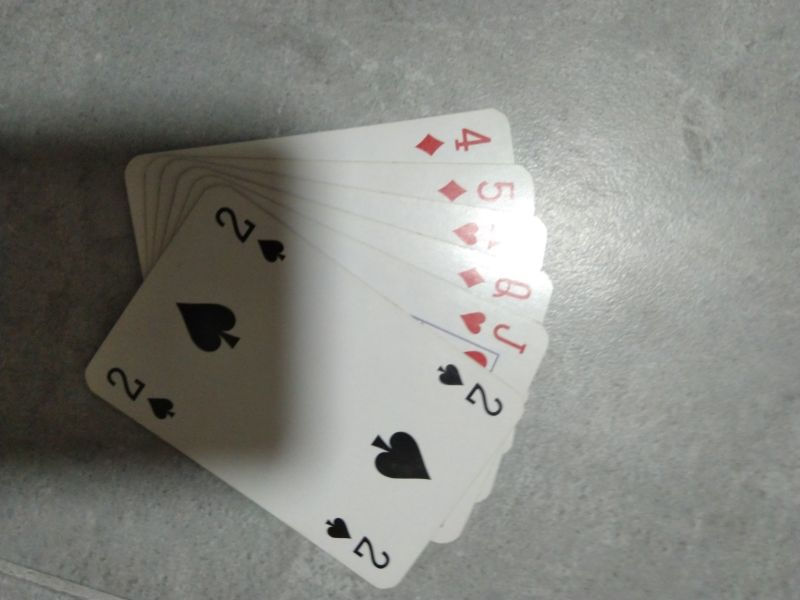2s: (211, 202, 290, 271), (104, 363, 180, 425), (433, 358, 506, 420), (322, 511, 394, 572)
4d: (413, 120, 498, 162)
5d: (435, 174, 521, 207)
Jh: (457, 309, 530, 358)
Qd: (451, 261, 538, 307)
